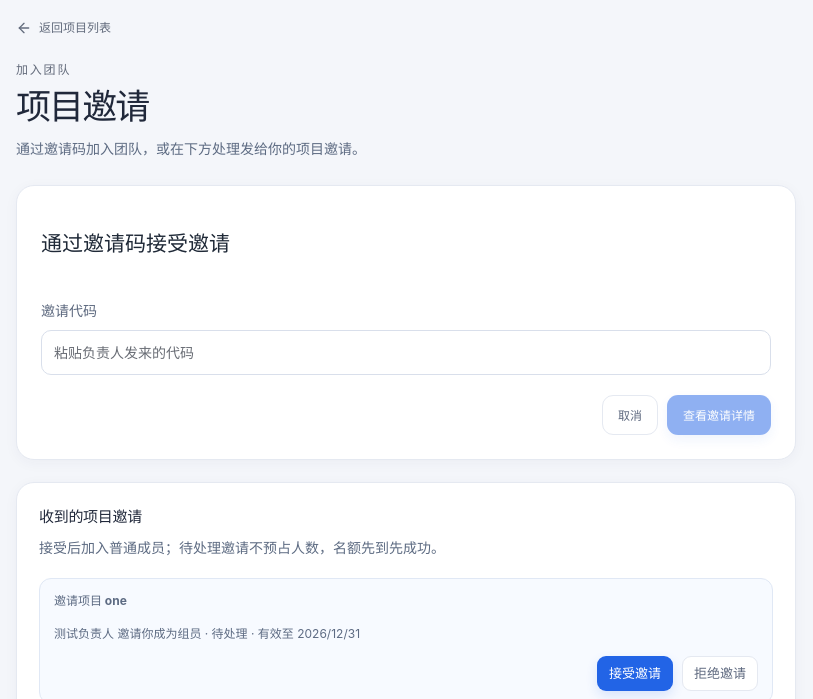
it: shows missing fields and cancels a username preview without accepting
The width and height of the screenshot is (813, 699).
Click the button "接受邀请".
click(635, 674)  # box [597,656,673,691]
(page scrolled)
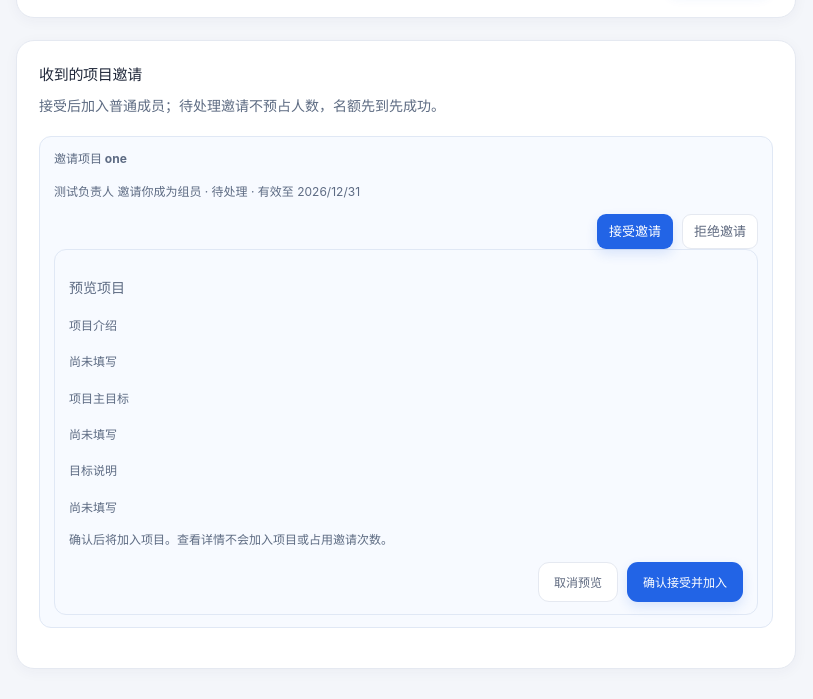
Expected: the button "确认接受并加入" is shown, [627,562,743,602]
Expected: the text "尚未填写" is shown 3 times, [69,354,117,369]; [69,427,117,442]; [69,500,117,515]
Click the button "取消预览".
click(578, 582)  # box [538,562,618,602]
(page scrolled)
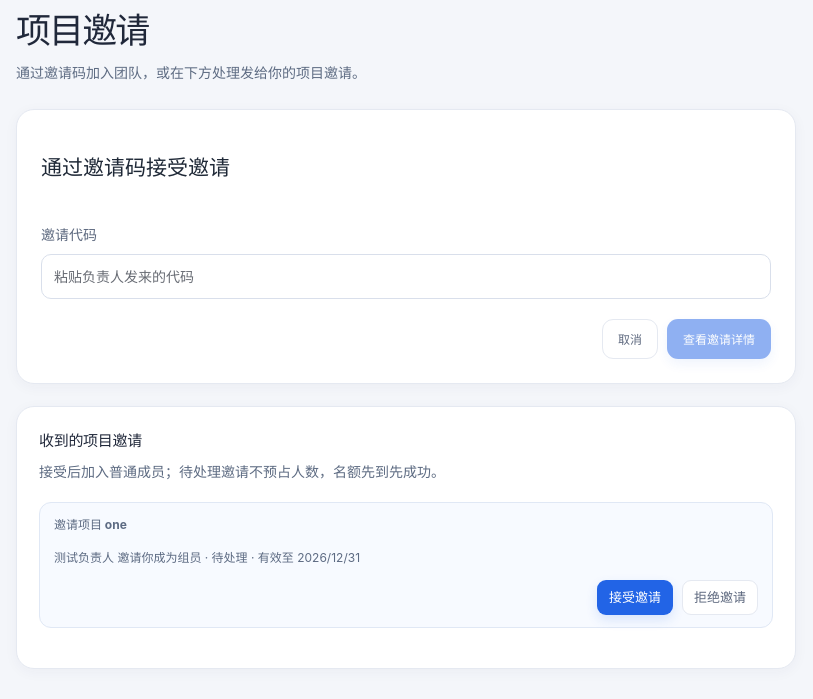
Expected: the button "确认接受并加入" is gone
